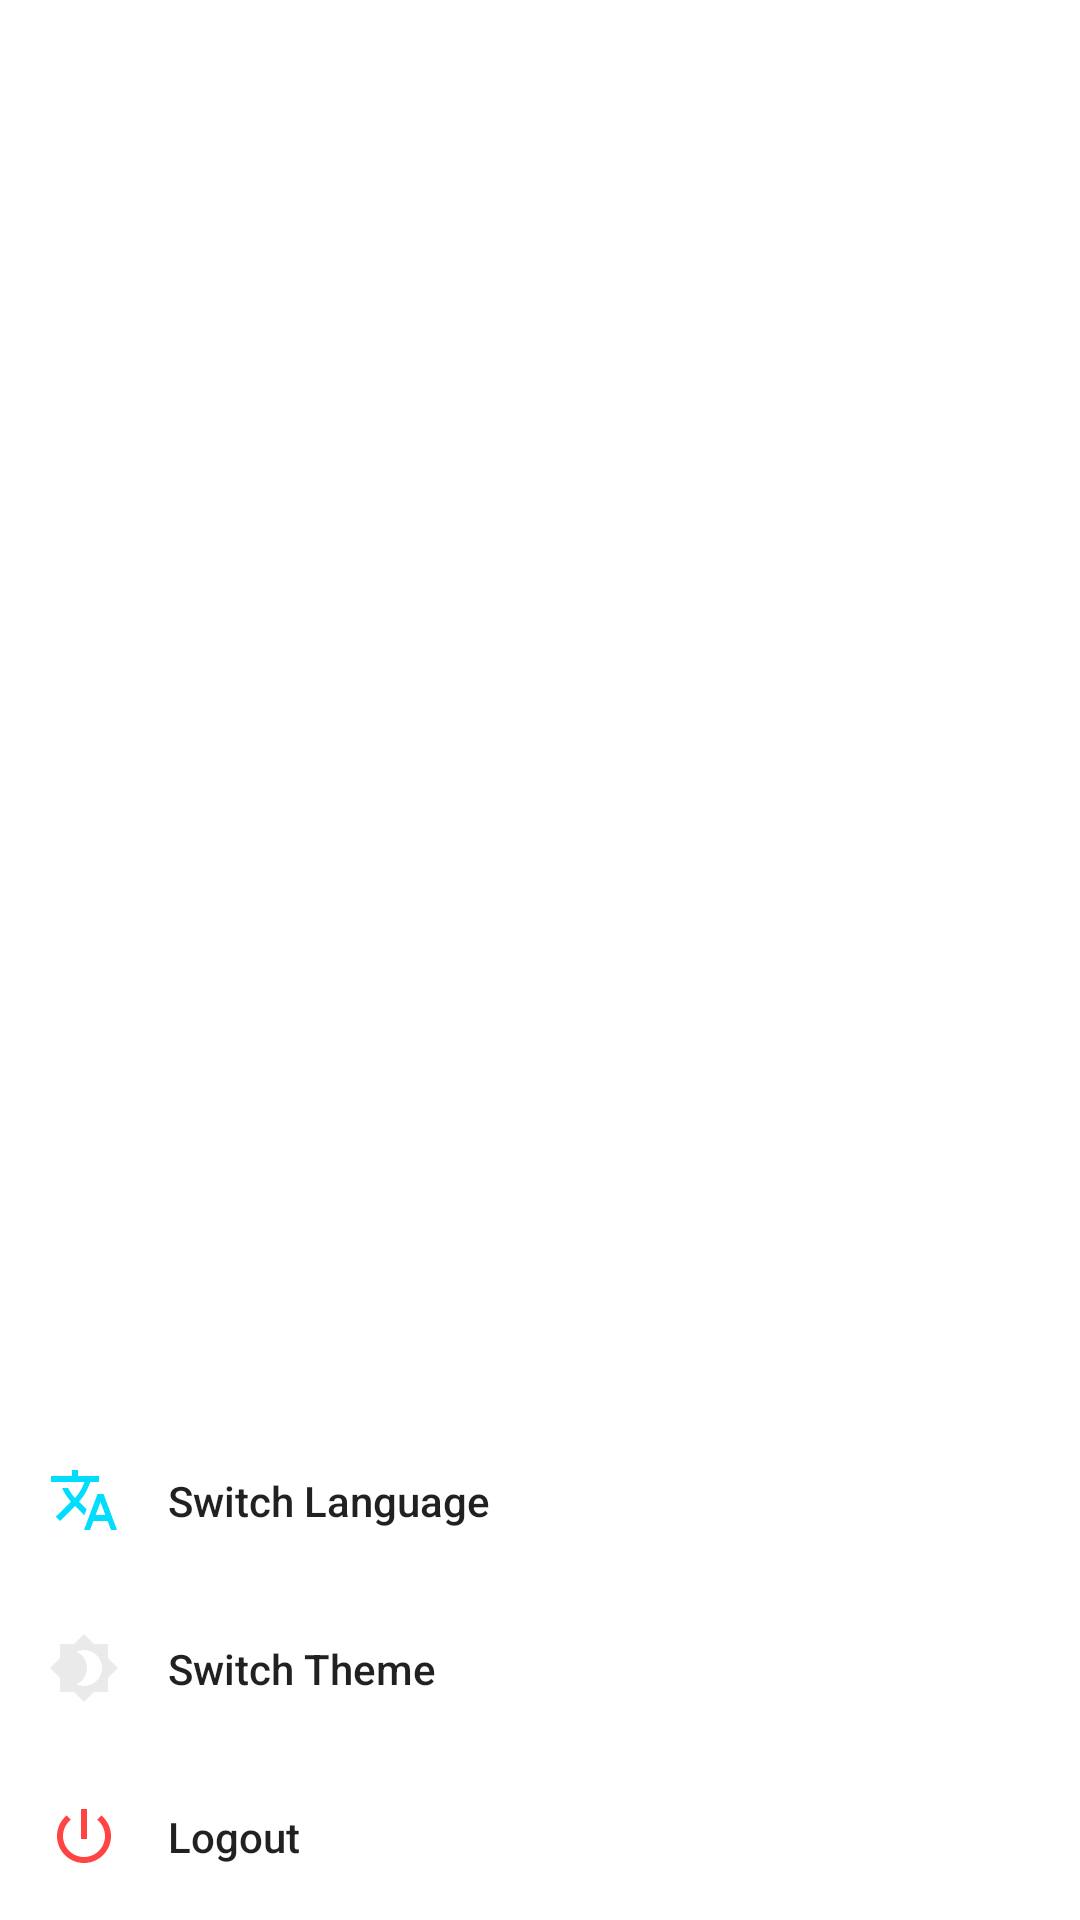

Named icons in this screenshot (1080 x 1920) and their bounding boxes, (x1, y1, x2, y2):
power settings: (57, 1809, 111, 1863)
translate: (51, 1470, 117, 1530)
